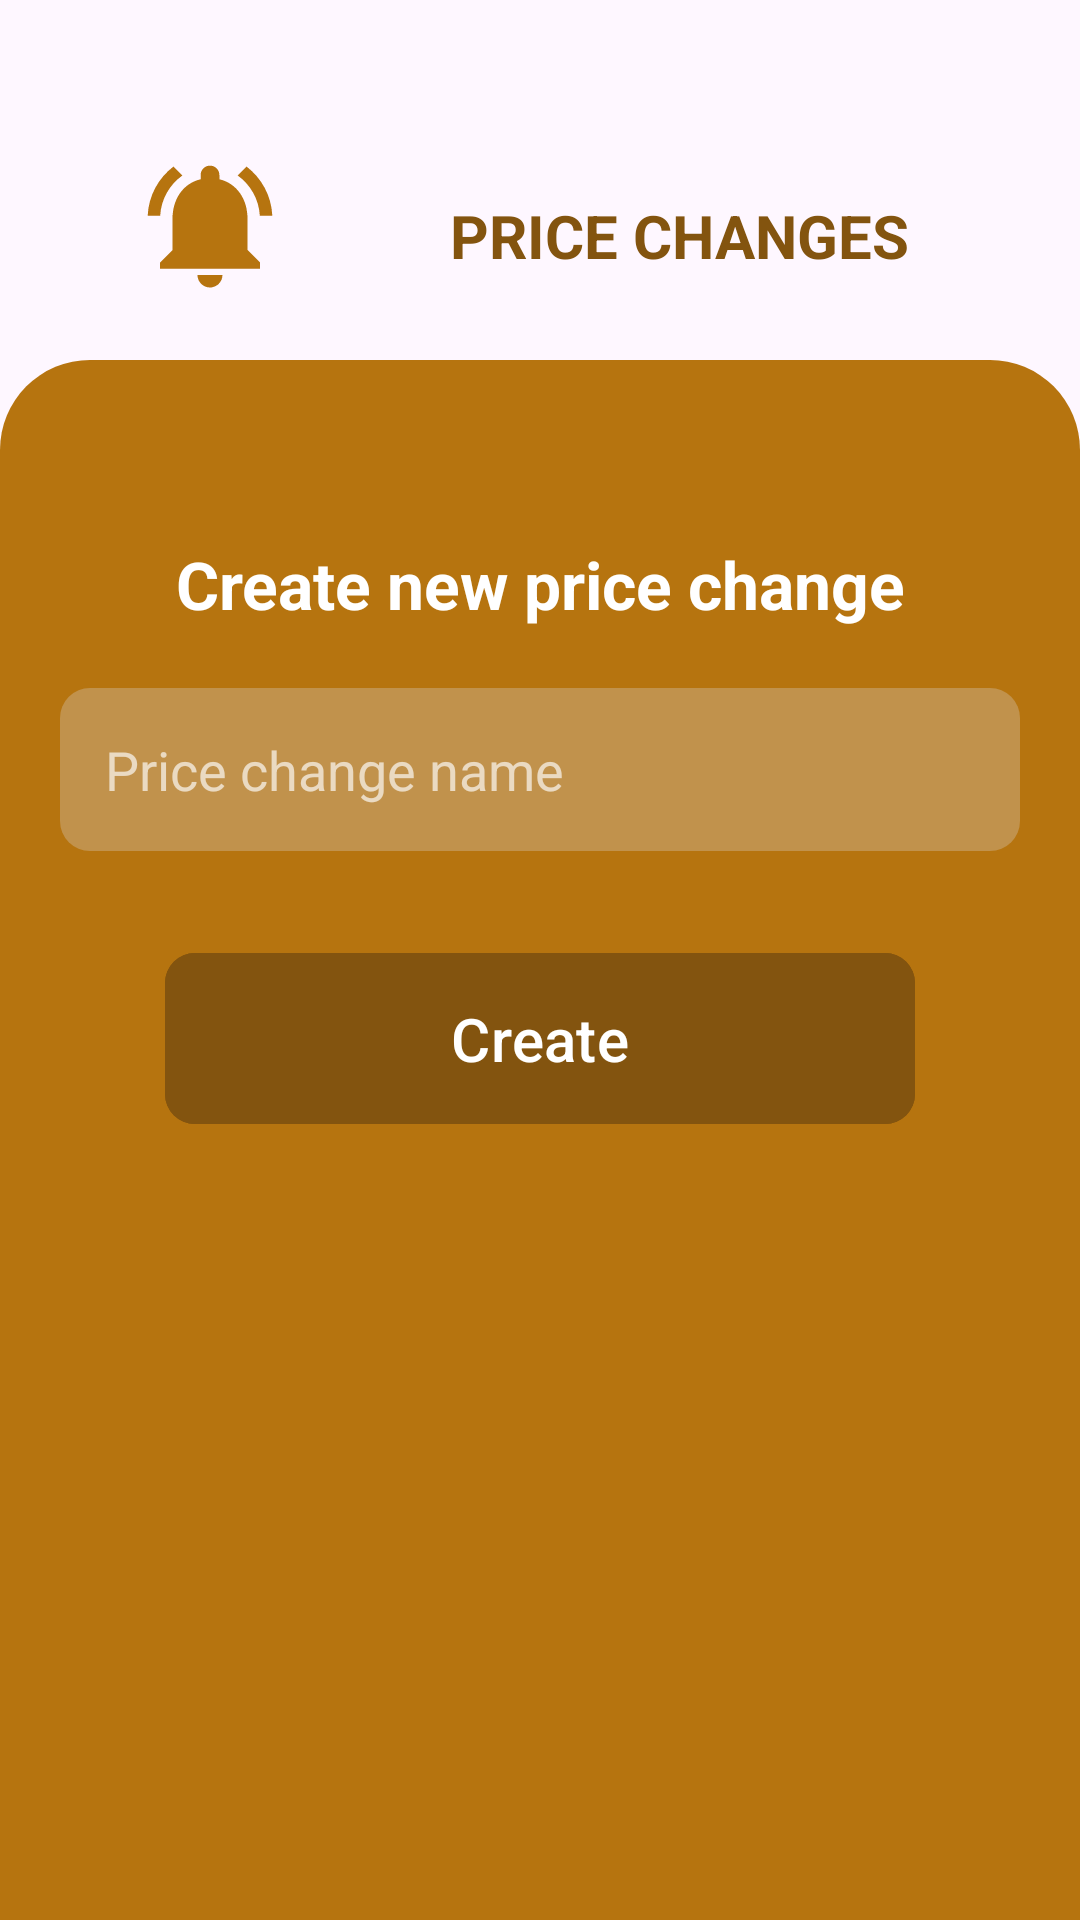

Point at icon controls on the screen. Image size 1080x1920, points as (x=x, y=y).
notifications: (x=210, y=226)
